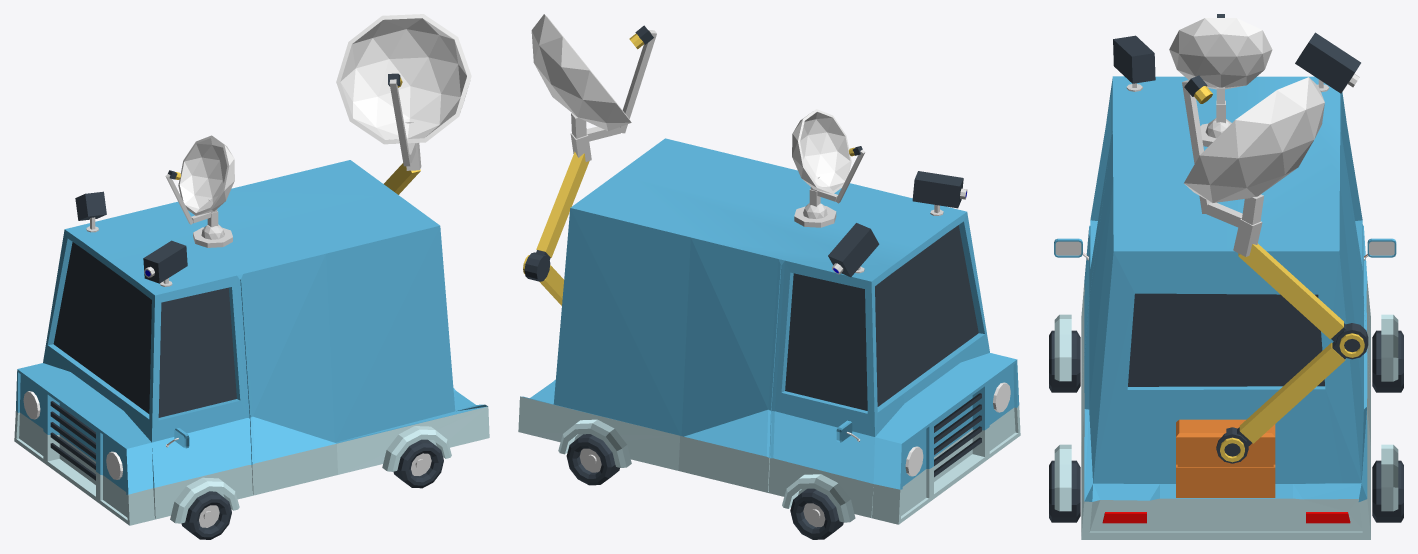
File: tv_car.fbx
The picture shows the model from 3 angles, left to right: view 1: azimuth 30°, elevation 25°; view 2: azimuth 150°, elevation 25°; view 3: azimuth 270°, elevation 25°; orthographic projection. The views are drawn at different scales.
Parts seen in each view (by area): view 1: tv_car; view 2: tv_car; view 3: tv_car.
Boxes of the visible parts, box(x1,y1,x2,y2) form: tv_car: box(14, 14, 489, 539); tv_car: box(518, 14, 1020, 539); tv_car: box(1049, 14, 1403, 539).
Bounding box in the file's own units: 352 × 330 × 218.
Materials: 1 (1 with a texture image).
